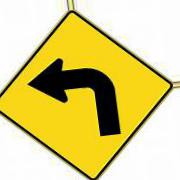left: (4, 12, 172, 180)
